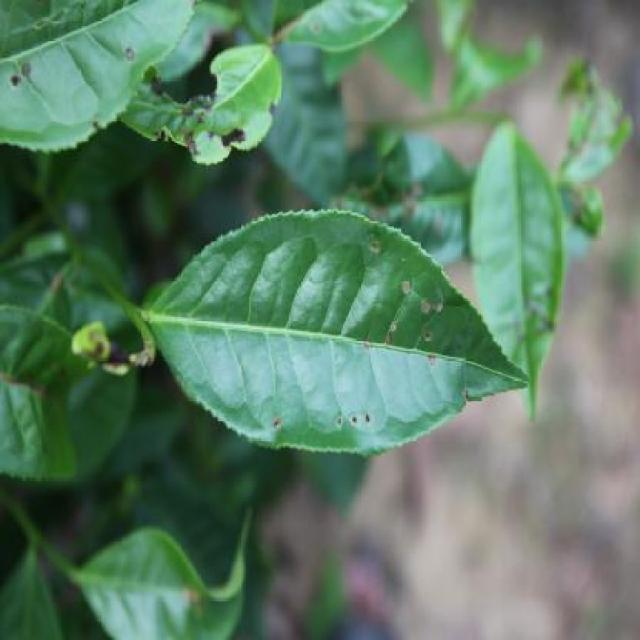Tea Mosquito bug infested leaf: (140, 211, 535, 457), (131, 35, 277, 178)
